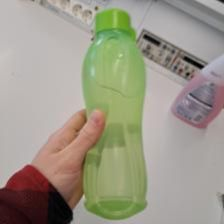bottle: (80, 6, 151, 219)
